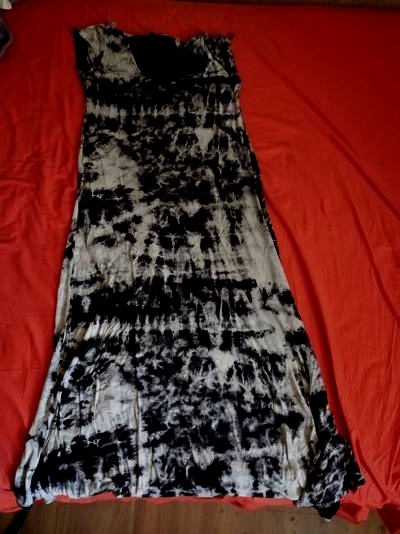Dress: (13, 2, 369, 514)
